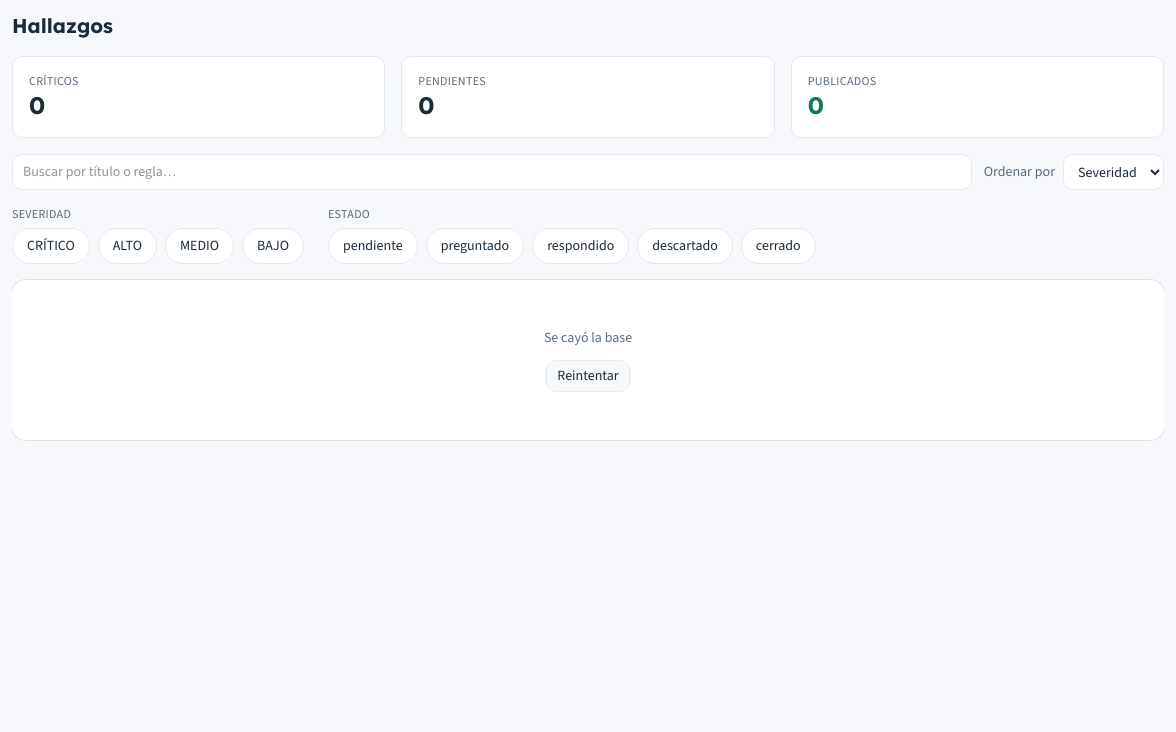
Test: si la carga falla hay card de error con Reintentar (no un vacío mentiroso)
Expected: the text "Se cayó la base" is shown, [544, 328, 632, 348]
Click the button "Reintentar": (588, 376) [546, 360, 630, 392]
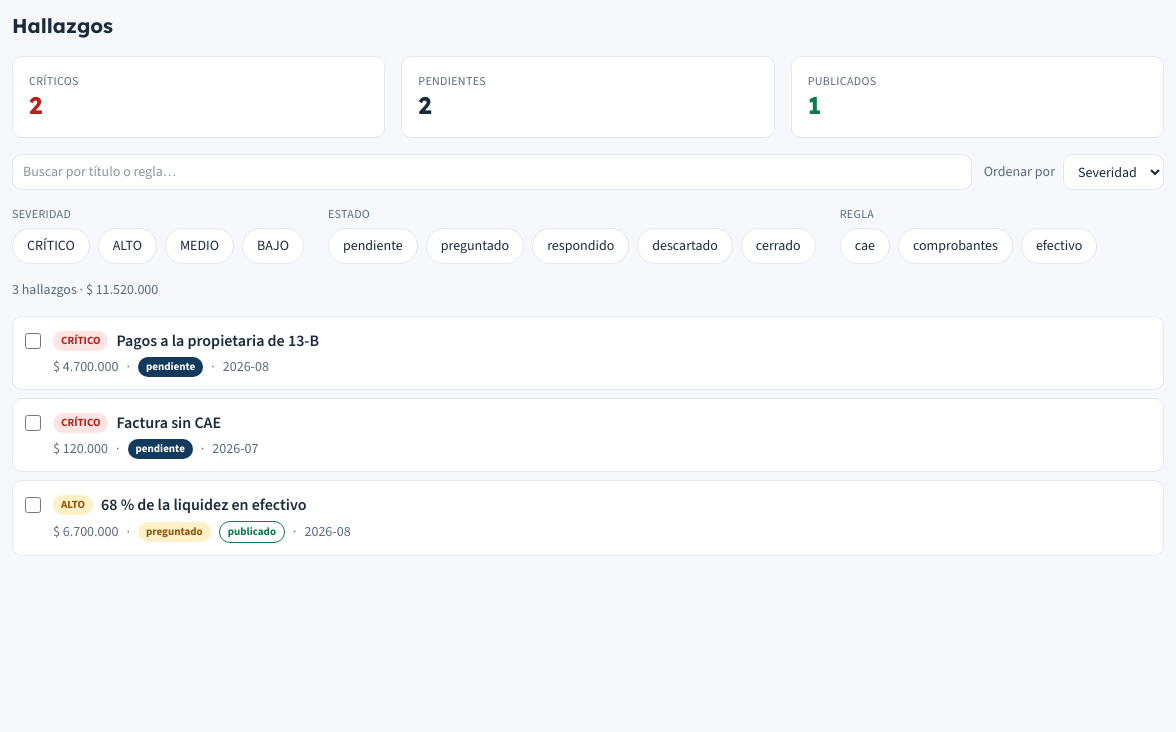
Result: the text "Pagos a la propietaria de 13-B" is shown at [116, 329, 319, 353]
